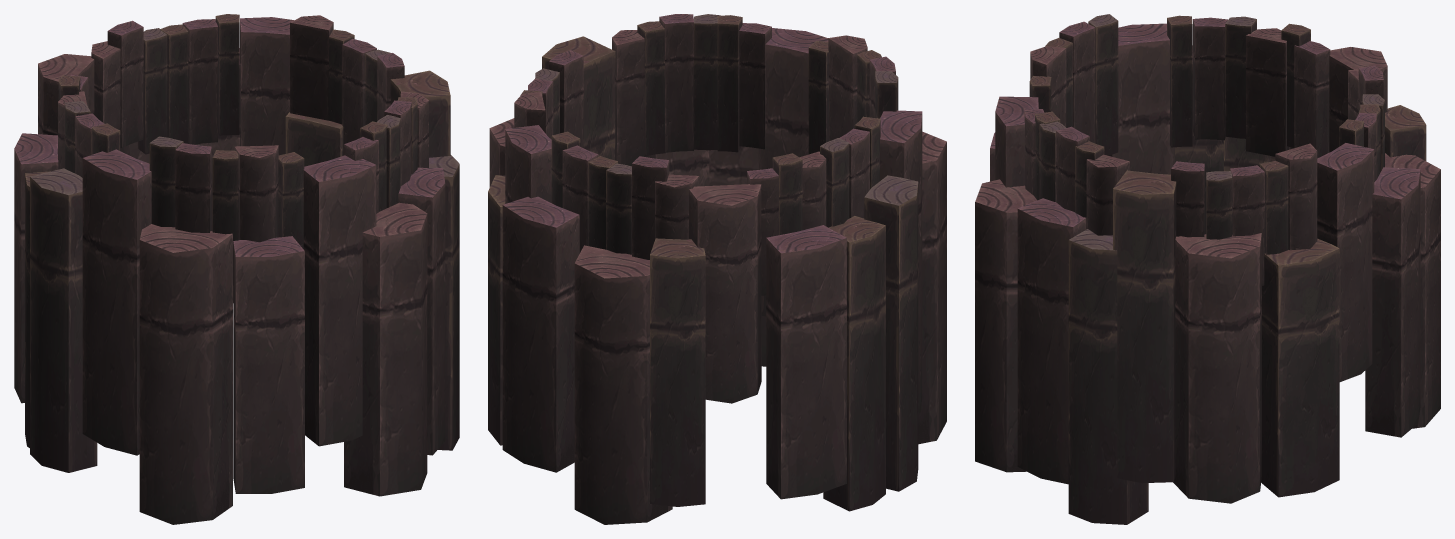
File: mofatai001.FBX
3 renders of one model, left to right at view 1: azimuth 30°, elevation 25°; view 2: azimuth 150°, elevation 25°; view 3: azimuth 270°, elevation 25°, orthographic. The views are drawn at different scales.
Visible parts, largest first — view 1: mofatai01; view 2: mofatai01; view 3: mofatai01.
Boxes of the visible parts, x1,y1,x2,y2 form: mofatai01: (14,14,459,524); mofatai01: (488,14,946,524); mofatai01: (975,14,1440,524).
Bounding box in the file's own units: 7881 × 7972 × 6834.
Materials: 1 (1 with a texture image).
